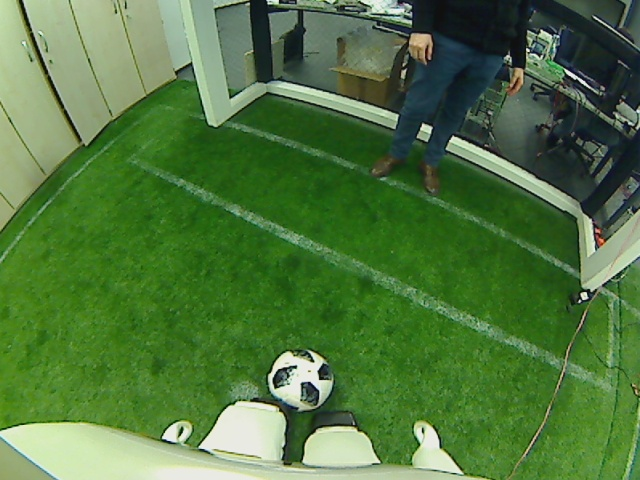ball: (264, 344, 336, 411)
